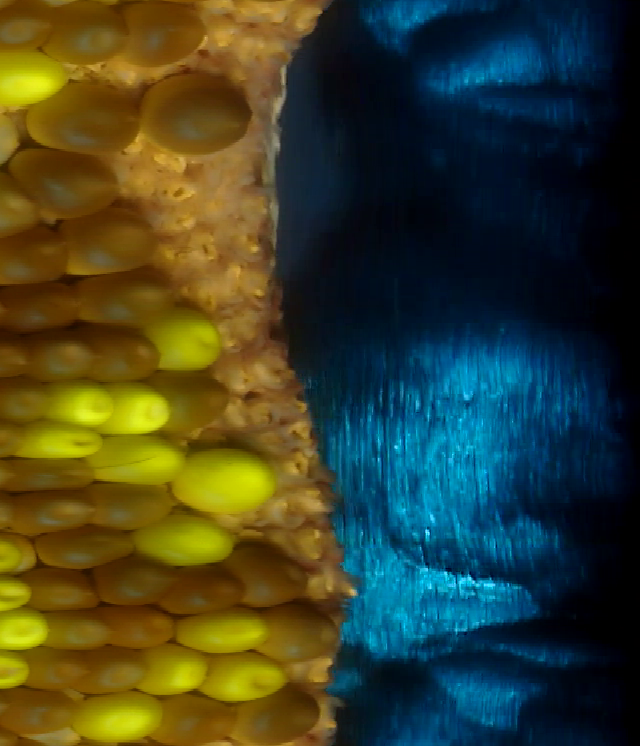fluorescent: (183, 450, 278, 514), (70, 693, 171, 741), (175, 608, 278, 655), (132, 516, 232, 564), (95, 439, 192, 487), (148, 311, 224, 369), (138, 641, 212, 699), (208, 651, 293, 701), (0, 49, 72, 104), (113, 375, 170, 437), (20, 418, 102, 461), (56, 375, 113, 427), (0, 613, 49, 653), (0, 648, 39, 692), (0, 571, 33, 611)
nonfluorescent: (137, 72, 258, 157), (12, 82, 149, 156), (58, 206, 166, 272), (9, 148, 122, 211), (82, 267, 176, 329), (118, 3, 209, 64), (48, 2, 132, 65), (232, 541, 309, 608), (33, 525, 133, 574), (160, 370, 234, 435), (262, 602, 337, 664), (87, 323, 165, 382), (244, 690, 324, 746), (2, 281, 87, 333), (0, 228, 76, 286), (171, 562, 248, 616), (24, 325, 97, 381), (154, 693, 240, 740), (14, 491, 106, 533), (106, 557, 172, 613), (90, 481, 175, 524), (11, 685, 83, 733), (27, 569, 99, 616), (38, 606, 106, 653), (29, 650, 95, 698), (14, 454, 92, 493), (109, 607, 178, 648), (0, 4, 53, 56), (88, 645, 141, 691), (0, 170, 34, 240), (0, 376, 50, 423), (0, 334, 32, 382)
